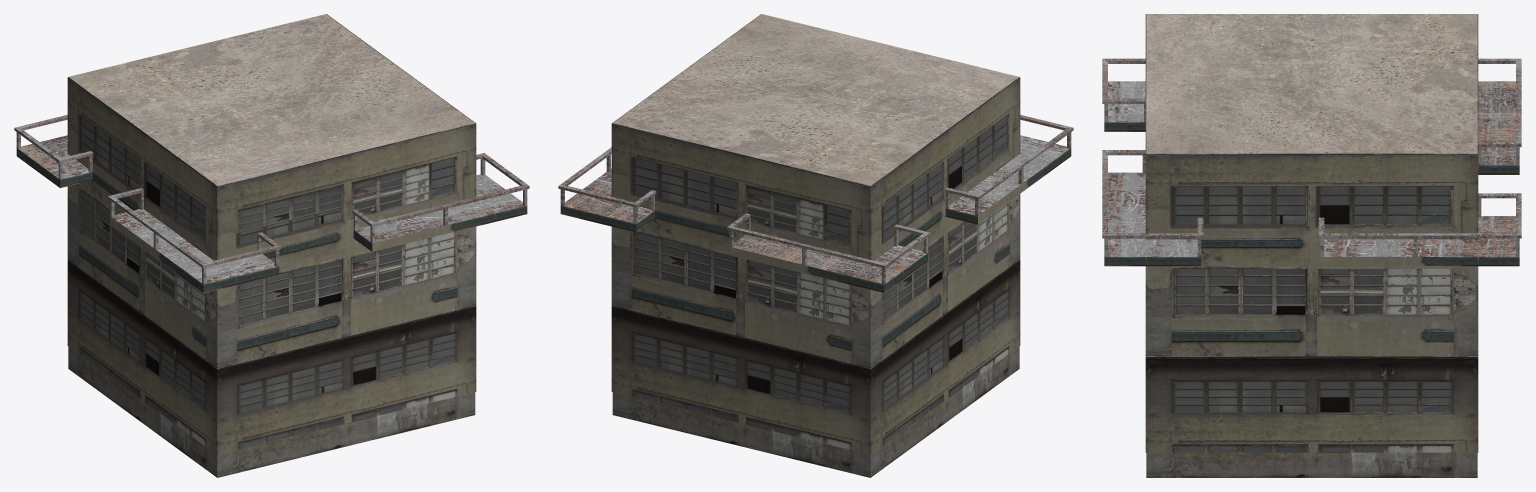
The model's file is BagBuilding9_70.fbx.
3 views of the same model, side by side, from view 1: azimuth 30°, elevation 25°; view 2: azimuth 150°, elevation 25°; view 3: azimuth 270°, elevation 25° (orthographic). The views are drawn at different scales.
Visible parts, largest first — view 1: main70, Box70, roofA70, stairsfloorsA70, railsA70; view 2: main70, Box70, roofA70, stairsfloorsA70, railsA70; view 3: main70, roofA70, Box70, stairsfloorsA70, railsA70.
Part boxes in pixels (x1,y1,x2,y2): main70: [16, 14, 527, 454]; Box70: [68, 77, 475, 477]; roofA70: [69, 14, 474, 185]; stairsfloorsA70: [19, 135, 523, 283]; railsA70: [14, 115, 529, 284]; main70: [560, 14, 1071, 454]; Box70: [612, 77, 1019, 477]; roofA70: [613, 14, 1018, 185]; stairsfloorsA70: [564, 135, 1068, 283]; railsA70: [558, 115, 1073, 284]; main70: [1104, 14, 1519, 452]; roofA70: [1146, 14, 1477, 153]; Box70: [1146, 153, 1477, 477]; stairsfloorsA70: [1108, 81, 1515, 256]; railsA70: [1102, 58, 1521, 256].
Bounding box in the file's own units: 21.19 × 18.09 × 21.19.
